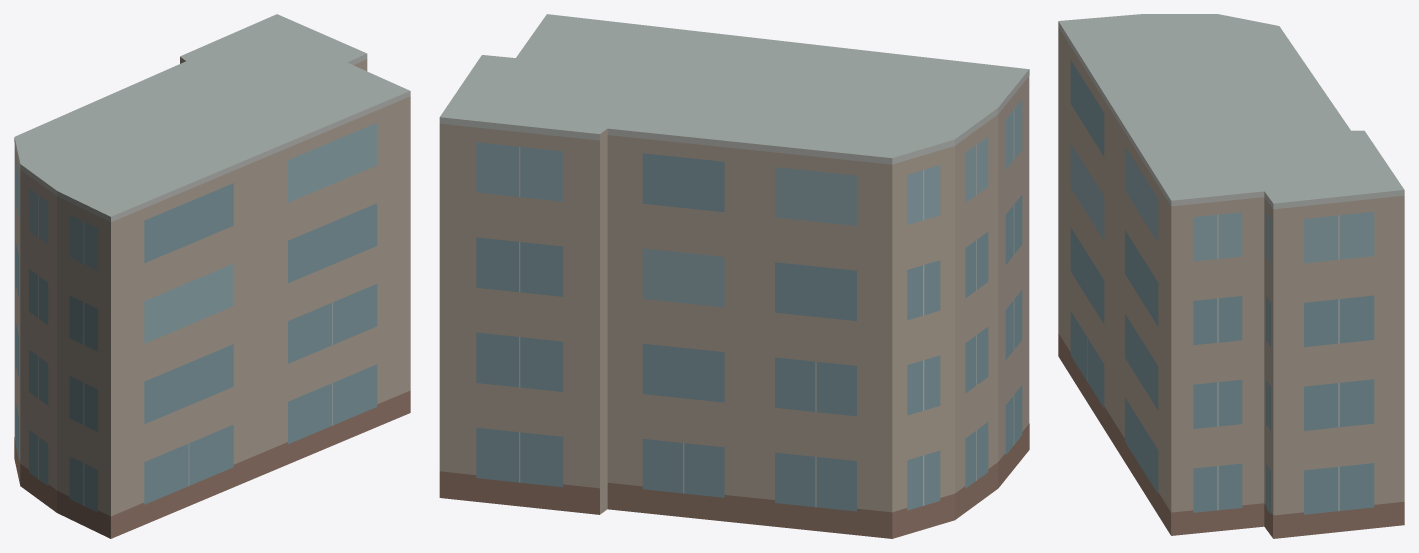
File: survey-upis-32937189.glb
3 renders of one model, left to right at view 1: azimuth 30°, elevation 25°; view 2: azimuth 150°, elevation 25°; view 3: azimuth 270°, elevation 25°, orthographic. The views are drawn at different scales.
Parts seen in each view (by area): view 1: survey-upis-32937189.tmp; view 2: survey-upis-32937189.tmp; view 3: survey-upis-32937189.tmp.
Boxes of the visible parts, left/top/right/bottom form: survey-upis-32937189.tmp: left=14, top=14, right=410, bottom=538; survey-upis-32937189.tmp: left=439, top=14, right=1029, bottom=538; survey-upis-32937189.tmp: left=1058, top=14, right=1404, bottom=538.
Bounding box in the file's own units: 17.49 × 14.4 × 13.49.
